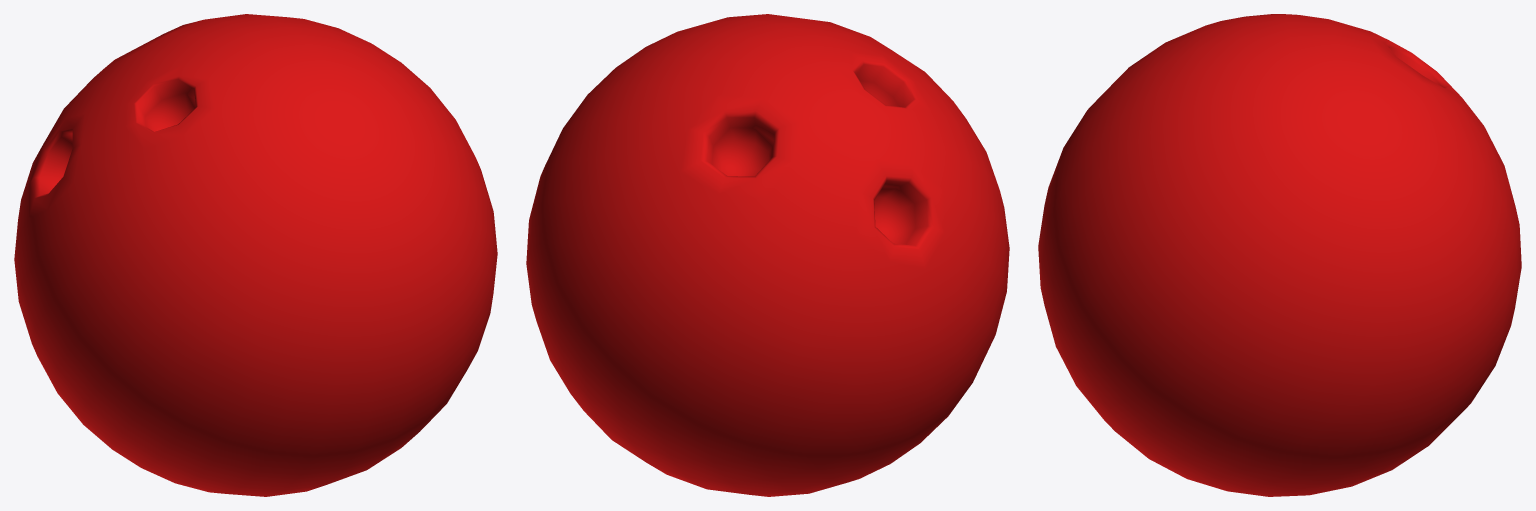
The model's file is bowlingBall2.obj.
3 views of the same model, side by side, from view 1: azimuth 30°, elevation 25°; view 2: azimuth 150°, elevation 25°; view 3: azimuth 270°, elevation 25° (orthographic).
Parts seen in each view (by area): view 1: bowlingBall2; view 2: bowlingBall2; view 3: bowlingBall2.
Part boxes in pixels (x1,y1,x2,y2): bowlingBall2: (14,14,497,496); bowlingBall2: (526,14,1009,496); bowlingBall2: (1038,14,1521,496).
Bounding box in the file's own units: 0.173 × 0.1728 × 0.1728.
